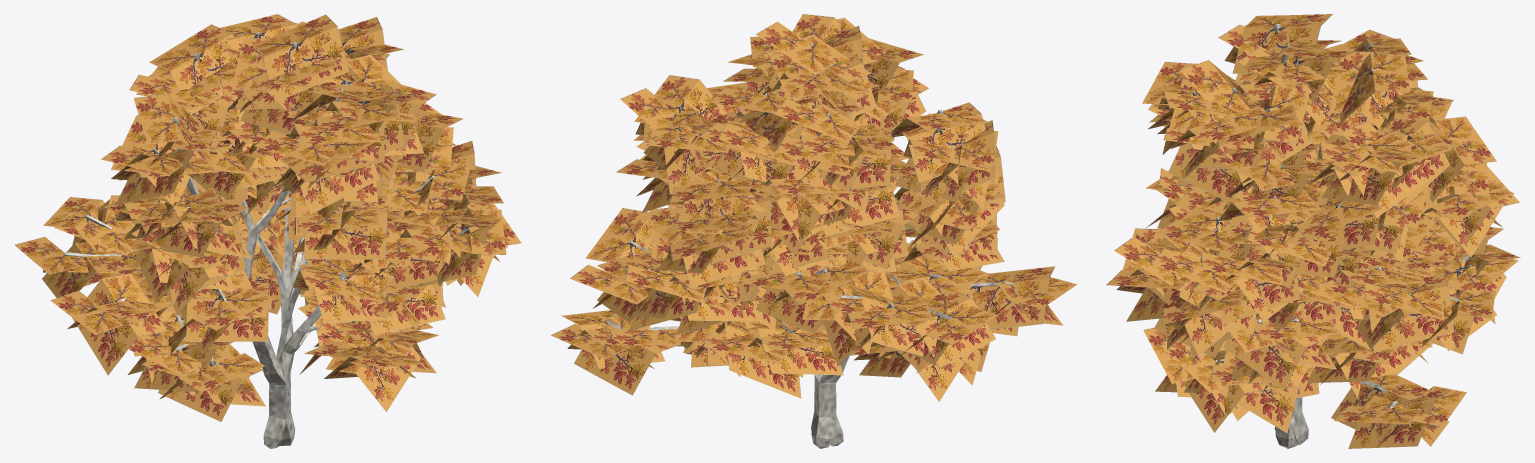
Rendered from tree_3.obj.
3 views of the same model, side by side, from view 1: azimuth 30°, elevation 25°; view 2: azimuth 150°, elevation 25°; view 3: azimuth 270°, elevation 25° (orthographic). The views are drawn at different scales.
Parts seen in each view (by area): view 1: Wallnut_; view 2: Wallnut_; view 3: Wallnut_.
Part boxes in pixels (x1,y1,x2,y2): Wallnut_: (14, 14, 521, 448); Wallnut_: (551, 14, 1076, 448); Wallnut_: (1106, 14, 1520, 448).
Size of the model in its own units: 1.55 by 1.41 by 1.27.
Materials: 1 (1 with a texture image).
